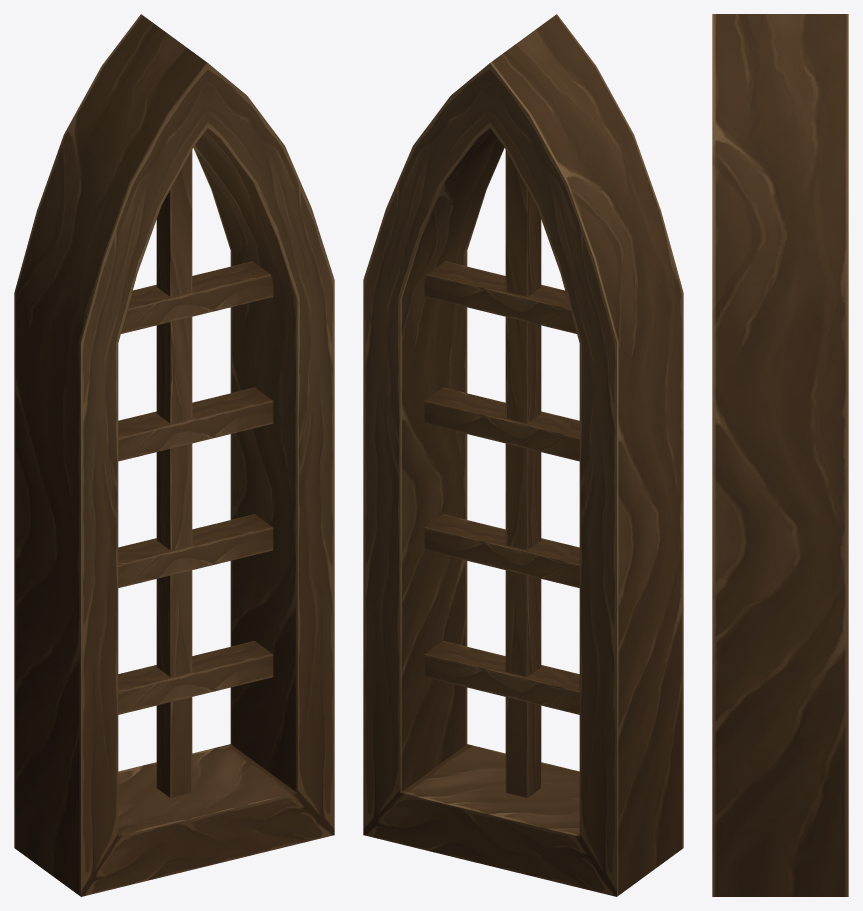
The model's file is Window_3_1.FBX.
3 renders of one model, left to right at view 1: azimuth 30°, elevation 25°; view 2: azimuth 150°, elevation 25°; view 3: azimuth 270°, elevation 25°, orthographic. The views are drawn at different scales.
Parts seen in each view (by area): view 1: Window_3_1; view 2: Window_3_1; view 3: Window_3_1.
Part boxes in pixels (x1=…): Window_3_1: x1=14, y1=14, x2=334, y2=896; Window_3_1: x1=363, y1=14, x2=683, y2=896; Window_3_1: x1=712, y1=14, x2=848, y2=896.
Size of the model in its own units: 628 by 1901 by 287.
